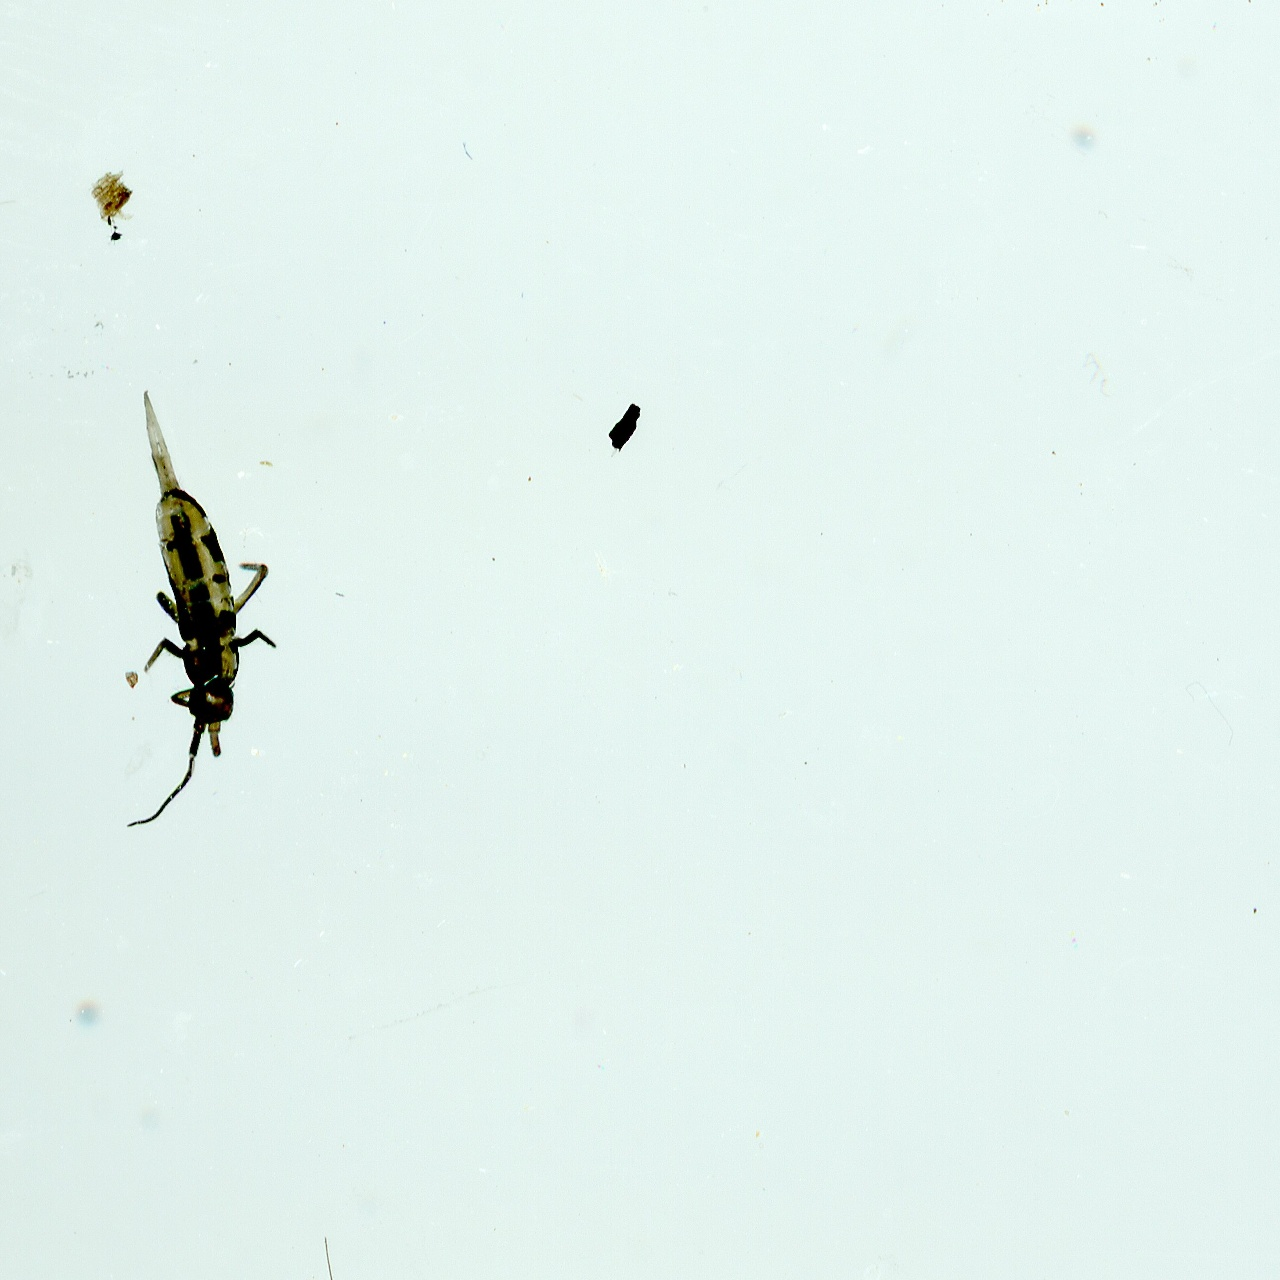arthropod: (115, 381, 283, 833), (154, 1205, 509, 1280)
